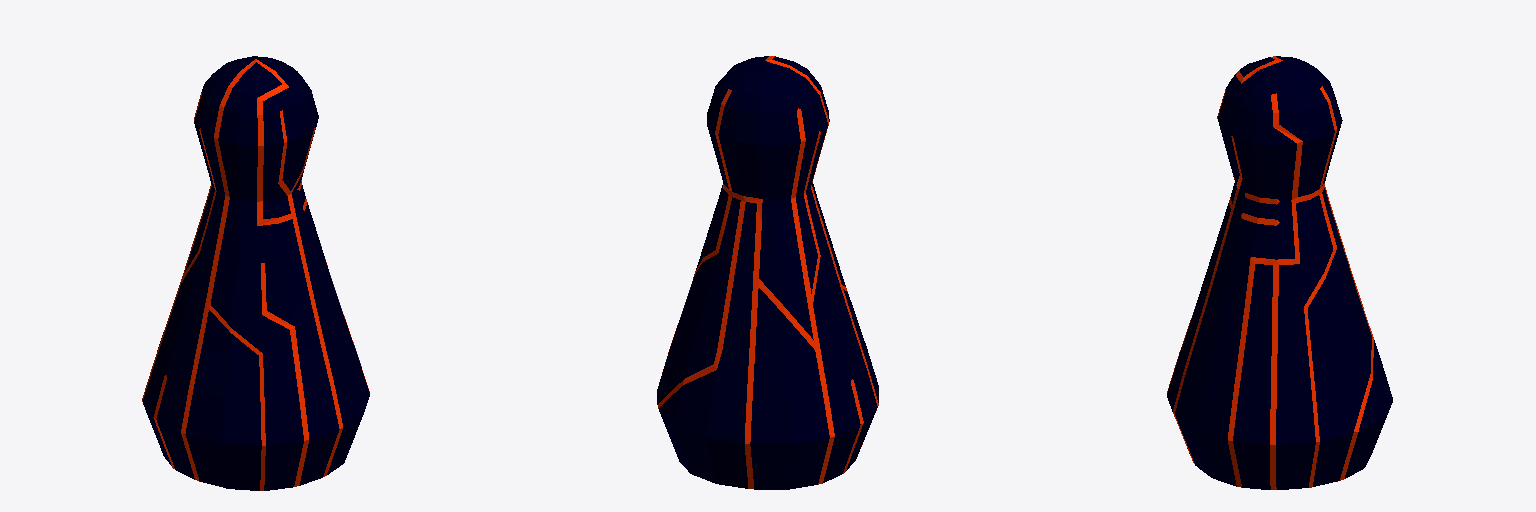
Rendered from chiporange.obj.
3 views of the same model, side by side, from view 1: azimuth 30°, elevation 25°; view 2: azimuth 150°, elevation 25°; view 3: azimuth 270°, elevation 25° (orthographic).
Parts seen in each view (by area): view 1: orange_Куб.043; view 2: orange_Куб.043; view 3: orange_Куб.043.
Part boxes in pixels (x1,y1,x2,y2): orange_Куб.043: (142,56,369,490); orange_Куб.043: (657,56,878,489); orange_Куб.043: (1167,56,1392,489).
Size of the model in its own units: 0.2374 by 0.4543 by 0.2385.